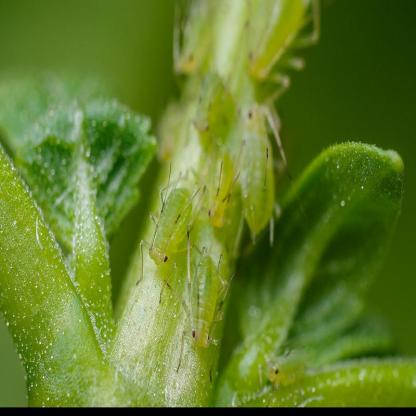aphid: (232, 84, 283, 242), (138, 164, 195, 290), (229, 298, 306, 390), (180, 237, 232, 367), (186, 56, 229, 150), (209, 140, 240, 234)
